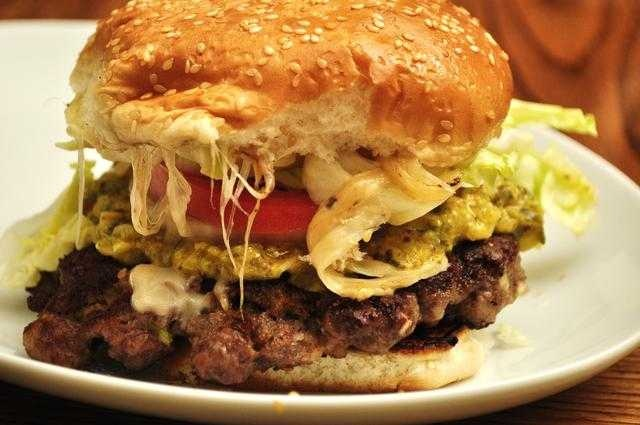hamburger: (66, 1, 537, 387)
